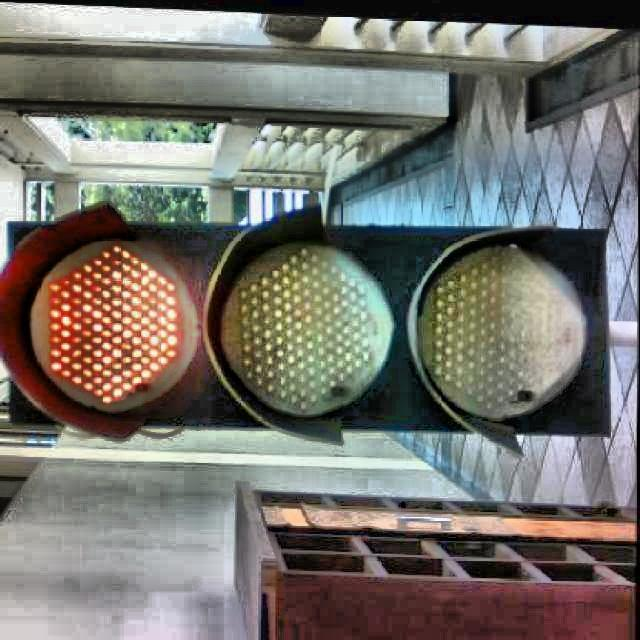red: (13, 219, 610, 436)
